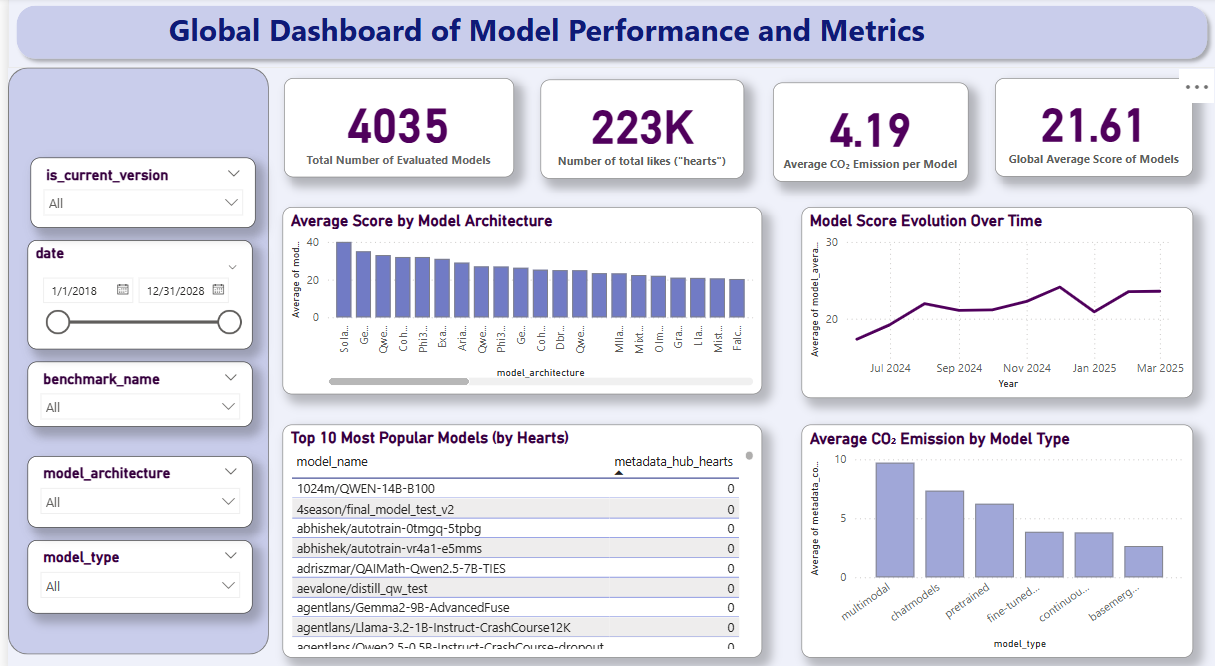

What the dashboard file says about the page in this screenshot:
{"tool":"powerbi","page":{"name":"LLMs Overview","canvas":[1280,720],"ordinal":0},"visuals":[{"type":"card","fields":{"Values":["DimModel.Total Number of Evaluated Models"]},"box":[291.9,86.5,244,105.6],"z":0},{"type":"card","fields":{"Values":["FactModelSnapshot.Number of total likes (\"hearts\")"]},"box":[565.3,88.3,216.3,105.6],"z":1000},{"type":"card","fields":{"Values":["FactModelSnapshot.Average CO₂ Emission per Model"]},"box":[811,90,207.7,105.6],"z":2000},{"type":"card","fields":{"Values":["FactModelSnapshot.Global Average Score of Models"]},"box":[1046.6,85.9,210,105],"z":3000},{"type":"clusteredColumnChart","title":"Average Score by Model Architecture","fields":{"Category":["DimModel.model_architecture"],"Y":["Avg(FactModelSnapshot.model_average_score)"]},"box":[291.4,223.5,508.3,198.3],"z":4000},{"type":"clusteredColumnChart","title":"\tAverage CO₂ Emission by Model Type","fields":{"Category":["DimModel.model_type"],"Y":["Avg(FactModelSnapshot.metadata_co2_cost)"]},"box":[842.2,453.4,415.3,247.5],"z":5000},{"type":"tableEx","title":"Top 10 Most Popular Models (by Hearts)","fields":{"Values":["DimModel.model_name","FactModelSnapshot.metadata_hub_hearts"]},"box":[290.7,453.4,508.8,247.5],"z":6000},{"type":"lineChart","title":"Model Score Evolution Over Time","fields":{"Y":["Avg(FactModelSnapshot.model_average_score)"],"Category":["DimDate.full_date.Variation.Date Hierarchy.Year","DimDate.full_date.Variation.Date Hierarchy.Quarter","DimDate.full_date.Variation.Date Hierarchy.Month"]},"box":[842.2,223.2,415.3,202.5],"z":7000},{"type":"shape","box":[0,0,1280.6,74.4],"z":8000},{"type":"textbox","box":[165.4,6.4,825.5,60.4],"z":9000},{"type":"shape","box":[0,74.4,276.9,623],"z":10000},{"type":"slicer","fields":{"Values":["DimModel.model_type"]},"box":[20.8,576.3,238.8,77.9],"z":11000},{"type":"slicer","fields":{"Values":["DimModel.model_architecture"]},"box":[20.8,486.3,238.8,76.1],"z":12000},{"type":"slicer","fields":{"Values":["DimBenchmark.benchmark_name"]},"box":[20.8,385.9,238.8,69.2],"z":13000},{"type":"slicer","title":"date","fields":{"Values":["DimDate.full_date"]},"box":[20.8,257.8,238.8,115.9],"z":14000},{"type":"slicer","fields":{"Values":["DimModel.is_current_version"]},"box":[24.2,169.6,238.8,74.4],"z":15000}]}

Visuals, with their boxes in screenshot pixels (x1, y1, x2, y2), scaled from the page's 1280x720 canvas onto the 1215x666 screenshot:
card - DimModel.Total Number of Evaluated Models: l=277, t=80, r=509, b=178
card - FactModelSnapshot.Number of total likes ("hearts"): l=537, t=82, r=742, b=179
card - FactModelSnapshot.Average CO₂ Emission per Model: l=770, t=83, r=967, b=181
card - FactModelSnapshot.Global Average Score of Models: l=993, t=79, r=1193, b=177
"Average Score by Model Architecture" clusteredColumnChart: l=277, t=207, r=759, b=390
"	Average CO₂ Emission by Model Type" clusteredColumnChart: l=799, t=419, r=1194, b=648
"Top 10 Most Popular Models (by Hearts)" tableEx: l=276, t=419, r=759, b=648
"Model Score Evolution Over Time" lineChart: l=799, t=206, r=1194, b=394
shape: l=0, t=0, r=1214, b=69
textbox: l=157, t=6, r=941, b=62
shape: l=0, t=69, r=263, b=645
slicer - DimModel.model_type: l=20, t=533, r=246, b=605
slicer - DimModel.model_architecture: l=20, t=450, r=246, b=520
slicer - DimBenchmark.benchmark_name: l=20, t=357, r=246, b=421
"date" slicer: l=20, t=238, r=246, b=346
slicer - DimModel.is_current_version: l=23, t=157, r=250, b=226
